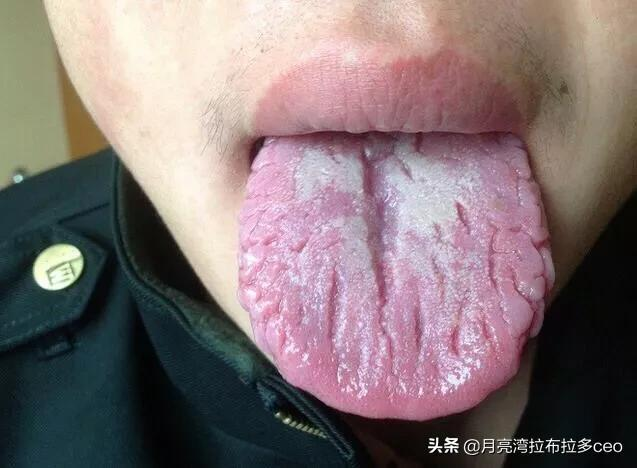baitaishe: (236, 140, 558, 420)
liewenshe: (320, 202, 555, 365)
